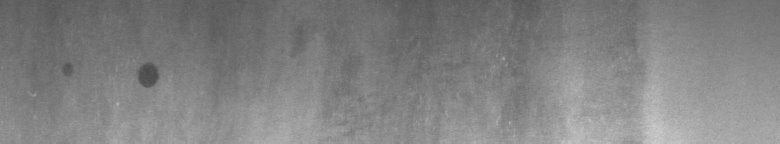fi: (28, 56, 164, 103)
